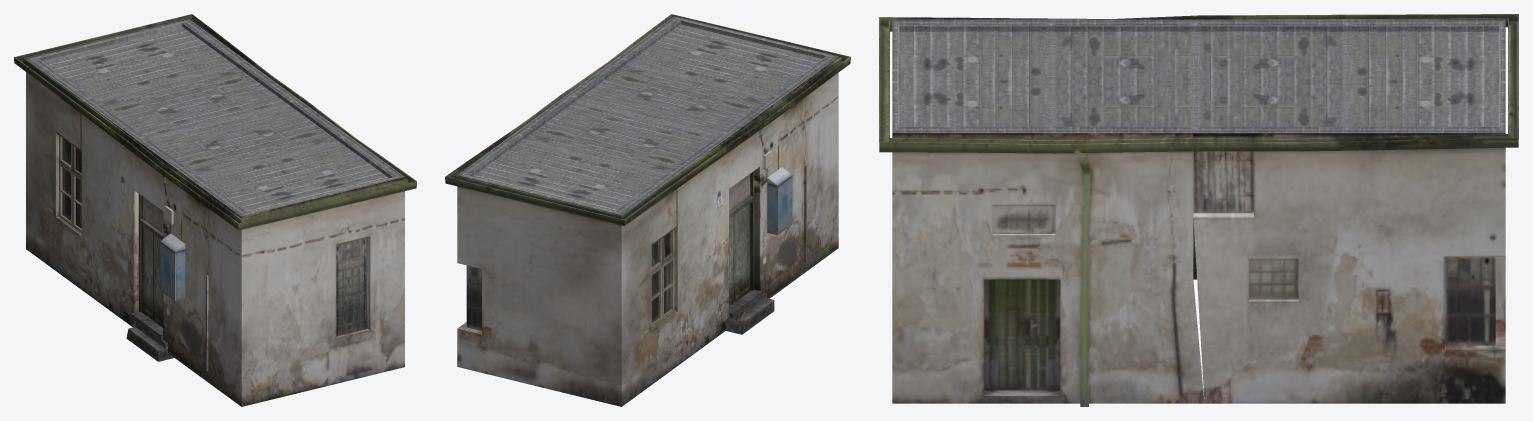
File: old-house.fbx
The picture shows the model from 3 angles, left to right: view 1: azimuth 30°, elevation 25°; view 2: azimuth 150°, elevation 25°; view 3: azimuth 270°, elevation 25°; orthographic projection. The views are drawn at different scales.
Visible parts, largest first — view 1: Object_66.jpg; view 2: Object_66.jpg; view 3: Object_66.jpg.
Boxes of the visible parts, x1=… form: Object_66.jpg: x1=14, y1=14, x2=416, y2=406; Object_66.jpg: x1=445, y1=14, x2=850, y2=406; Object_66.jpg: x1=879, y1=14, x2=1518, y2=406.
Size of the model in its own units: 1.17 by 1.21 by 2.5.
